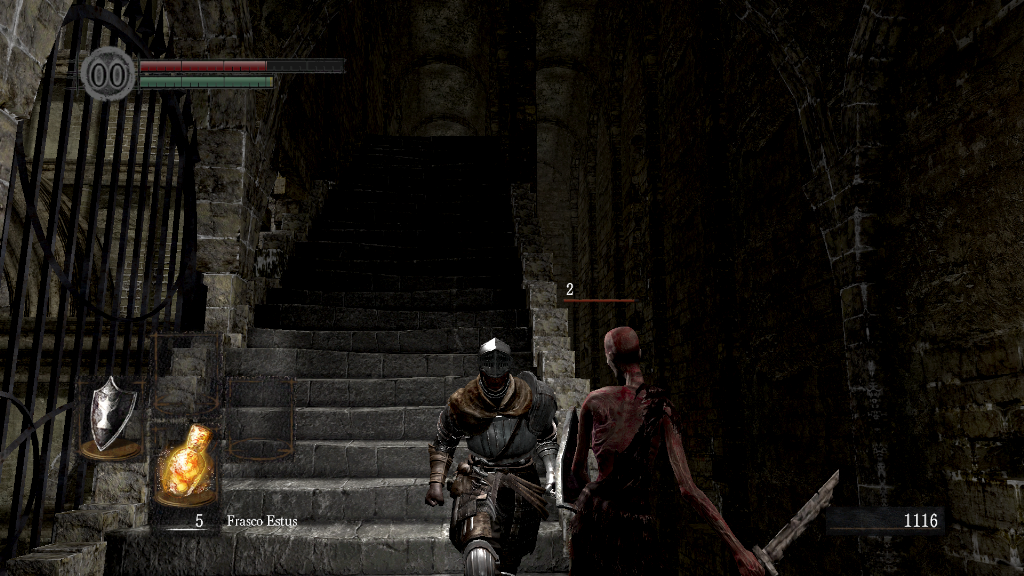health: (138, 58, 343, 71)
hollow: (562, 327, 766, 576)
humanity: (80, 45, 136, 102)
player: (424, 338, 563, 576)
souls: (825, 506, 945, 536)
stamina: (138, 74, 274, 88)
